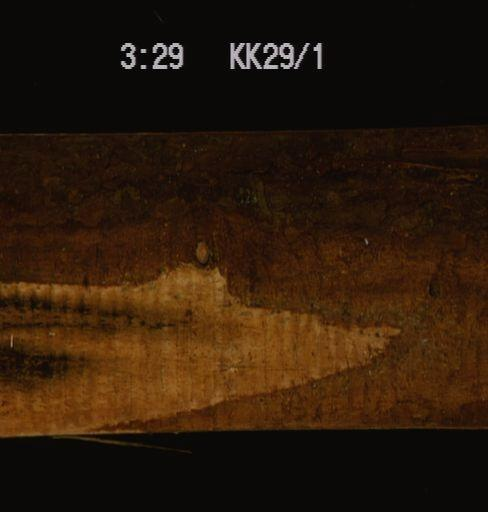wave: (0, 132, 486, 426)
